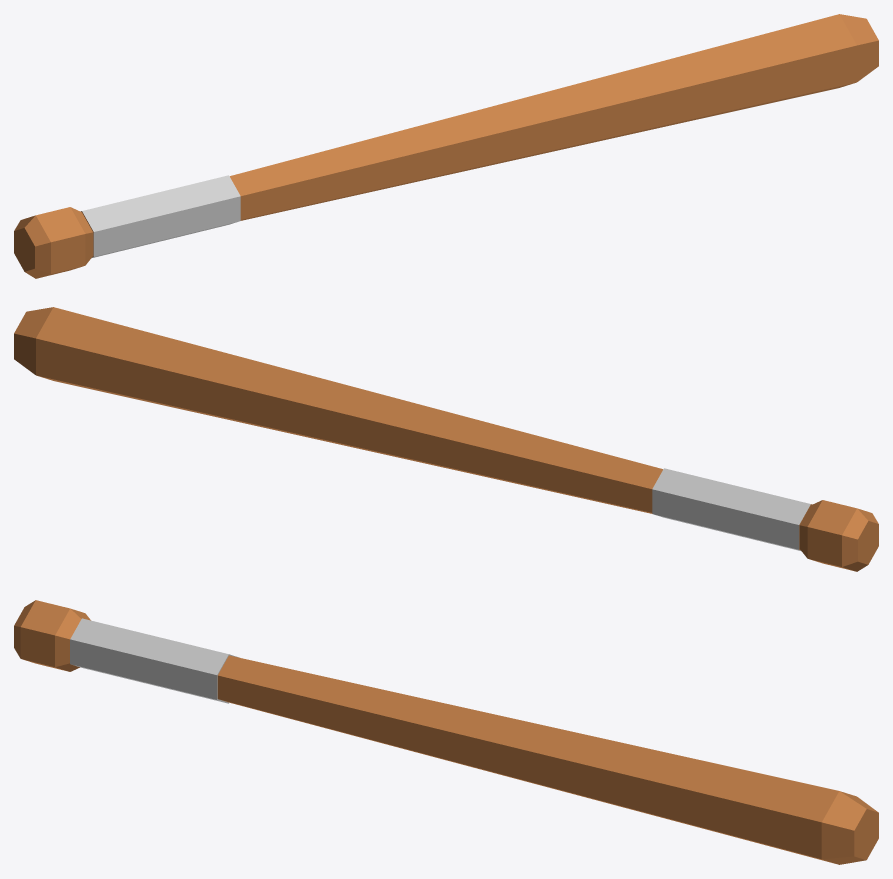
File: BaseballBat.fbx
The picture shows the model from 3 angles, top to bottom: view 1: azimuth 30°, elevation 25°; view 2: azimuth 150°, elevation 25°; view 3: azimuth 330°, elevation 25°; orthographic projection.
Parts seen in each view (by area): view 1: BaseballBat; view 2: BaseballBat; view 3: BaseballBat.
Boxes of the visible parts, box(x1,y1,x2,y2) form: BaseballBat: box(14, 14, 878, 278); BaseballBat: box(14, 307, 878, 571); BaseballBat: box(14, 600, 878, 864).
Size of the model in its own units: 59.6 by 5 by 4.33.
